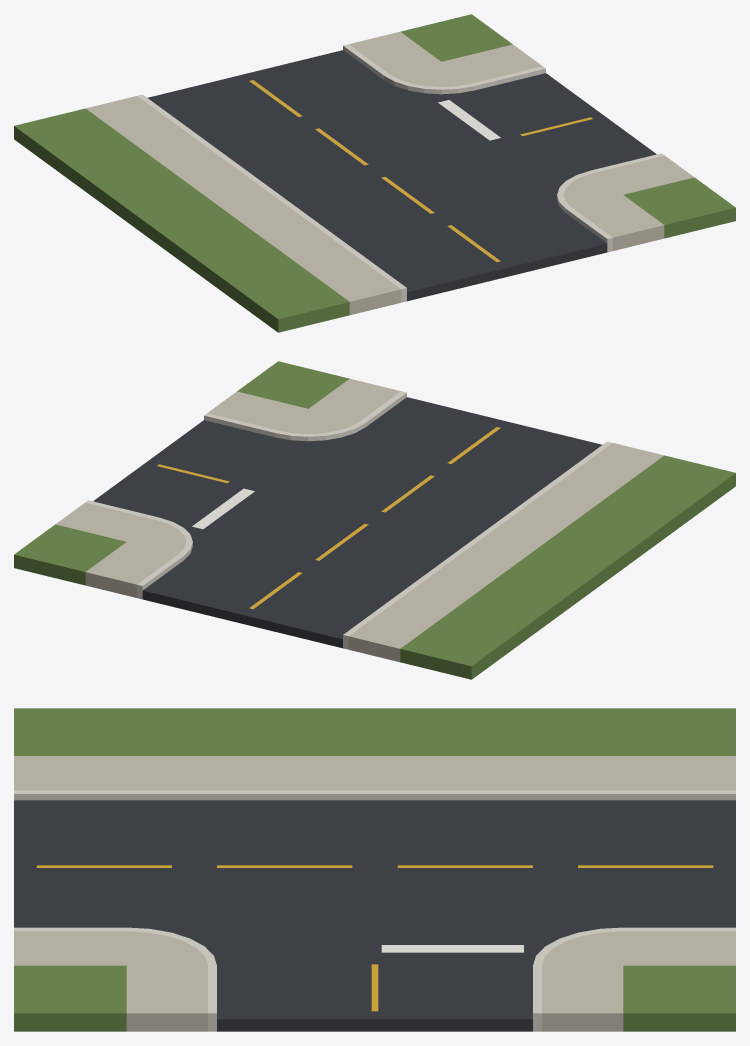
File: Road_2Lane_Sidewalk_Intersection_T.glb
3 renders of one model, top to bottom at view 1: azimuth 30°, elevation 25°; view 2: azimuth 150°, elevation 25°; view 3: azimuth 270°, elevation 25°, orthographic. The views are drawn at different scales.
Parts seen in each view (by area): view 1: Road_2Lane_Sidewalk_Intersection_T_Asphalt, Road_2Lane_Sidewalk_Intersection_T_Grass-edge, Road_2Lane_Sidewalk_Intersection_T_Sidewalk, Road_2Lane_Sidewalk_Intersection_T_Curb, Road_2Lane_Sidewalk_Intersection_T_PaintYellow, Road_2Lane_Sidewalk_Intersection_T_PaintWhite; view 2: Road_2Lane_Sidewalk_Intersection_T_Asphalt, Road_2Lane_Sidewalk_Intersection_T_Grass-edge, Road_2Lane_Sidewalk_Intersection_T_Sidewalk, Road_2Lane_Sidewalk_Intersection_T_Curb, Road_2Lane_Sidewalk_Intersection_T_PaintYellow, Road_2Lane_Sidewalk_Intersection_T_PaintWhite; view 3: Road_2Lane_Sidewalk_Intersection_T_Asphalt, Road_2Lane_Sidewalk_Intersection_T_Grass-edge, Road_2Lane_Sidewalk_Intersection_T_Sidewalk, Road_2Lane_Sidewalk_Intersection_T_Curb, Road_2Lane_Sidewalk_Intersection_T_PaintYellow, Road_2Lane_Sidewalk_Intersection_T_PaintWhite.
Part boxes in pixels (left/top/right/bottom): Road_2Lane_Sidewalk_Intersection_T_Asphalt: left=147, top=50, right=656, bottom=301; Road_2Lane_Sidewalk_Intersection_T_Grass-edge: left=14, top=14, right=735, bottom=332; Road_2Lane_Sidewalk_Intersection_T_Sidewalk: left=86, top=31, right=694, bottom=315; Road_2Lane_Sidewalk_Intersection_T_Curb: left=137, top=44, right=664, bottom=302; Road_2Lane_Sidewalk_Intersection_T_PaintYellow: left=249, top=80, right=592, bottom=261; Road_2Lane_Sidewalk_Intersection_T_PaintWhite: left=438, top=100, right=500, bottom=140; Road_2Lane_Sidewalk_Intersection_T_Asphalt: left=93, top=397, right=602, bottom=648; Road_2Lane_Sidewalk_Intersection_T_Grass-edge: left=14, top=361, right=735, bottom=679; Road_2Lane_Sidewalk_Intersection_T_Sidewalk: left=55, top=378, right=663, bottom=662; Road_2Lane_Sidewalk_Intersection_T_Curb: left=85, top=391, right=612, bottom=649; Road_2Lane_Sidewalk_Intersection_T_PaintYellow: left=157, top=427, right=500, bottom=608; Road_2Lane_Sidewalk_Intersection_T_PaintWhite: left=192, top=488, right=254, bottom=529; Road_2Lane_Sidewalk_Intersection_T_Asphalt: left=14, top=800, right=735, bottom=1031; Road_2Lane_Sidewalk_Intersection_T_Grass-edge: left=14, top=708, right=735, bottom=1031; Road_2Lane_Sidewalk_Intersection_T_Sidewalk: left=14, top=756, right=735, bottom=1031; Road_2Lane_Sidewalk_Intersection_T_Curb: left=14, top=790, right=735, bottom=1031; Road_2Lane_Sidewalk_Intersection_T_PaintYellow: left=36, top=865, right=713, bottom=1011; Road_2Lane_Sidewalk_Intersection_T_PaintWhite: left=381, top=945, right=523, bottom=952.
Size of the model in its own units: 16 by 0.45 by 16.
